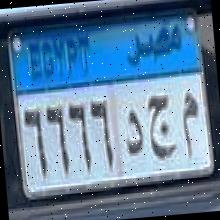6: (20, 103, 49, 183), (88, 96, 118, 172), (44, 100, 71, 178), (68, 99, 94, 177)
daal: (119, 104, 146, 163)
jeem: (144, 90, 180, 164)
meem: (177, 89, 203, 166)
